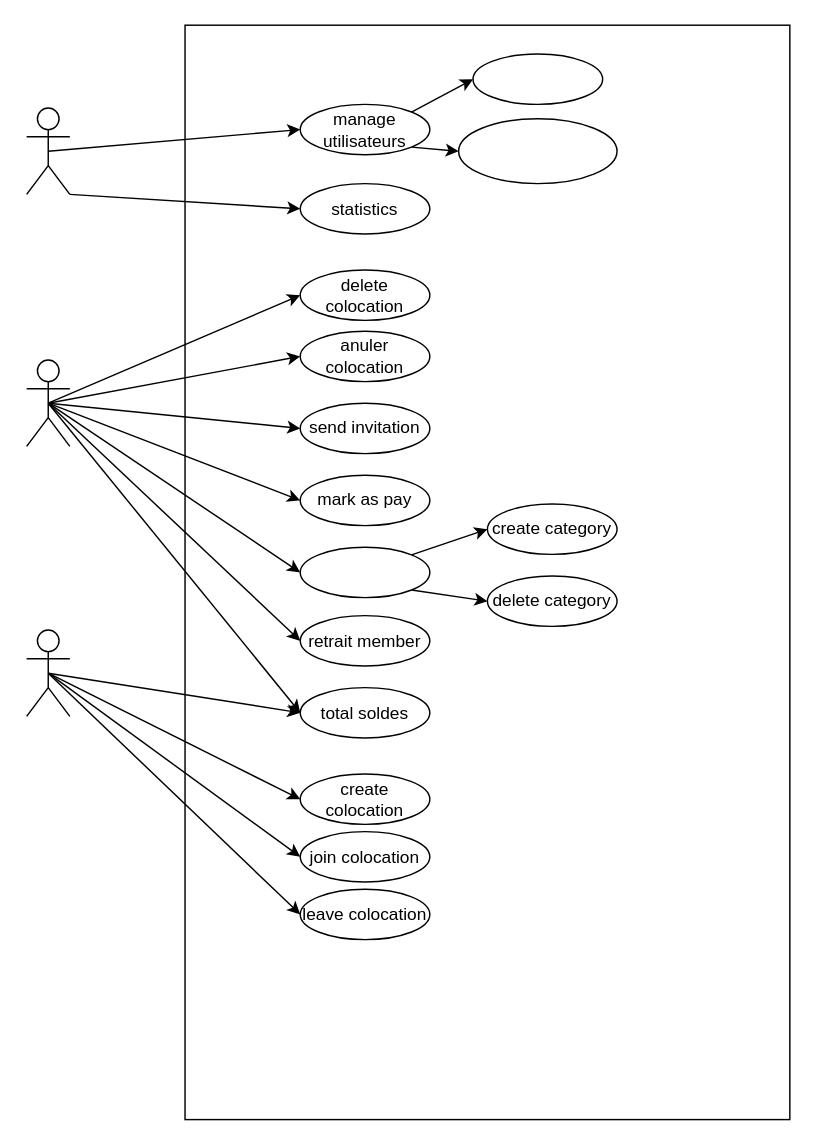
This 815x1145 diagram has some shape labels left out. Here are the shapes that lost their labels. From the top down, the centre of each, then its label:
the point at 537,78: Consulter list utilisateur
the point at 47,150: admin
the point at 537,150: banner/debane utilisateur
the point at 47,402: owner
the point at 364,572: manage category
the point at 47,672: user
